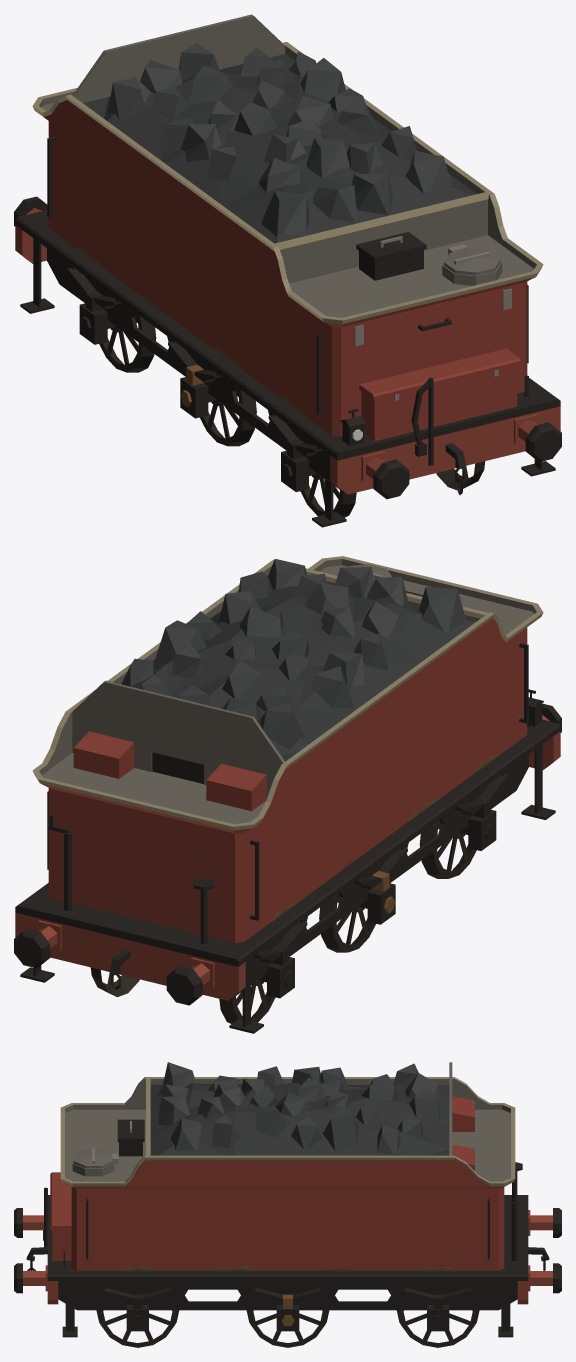
Rendered from coal-tender-0e3647.glb.
3 views of the same model, one above another, from view 1: azimuth 30°, elevation 25°; view 2: azimuth 150°, elevation 25°; view 3: azimuth 270°, elevation 25° (orthographic). The views are drawn at different scales.
Parts seen in each view (by area): view 1: body, coal-lumps, wheel-1-set, wheel-2-set, wheel-3-set, lamp-body; view 2: body, coal-lumps, wheel-3-set, wheel-2-set, wheel-1-set; view 3: body, coal-lumps, wheel-2-set, wheel-1-set, wheel-3-set.
Part boxes in pixels (x1,y1,x2,y2): body: (14,14,561,527); coal-lumps: (108,43,452,236); wheel-1-set: (300,461,485,517); wheel-2-set: (200,387,256,446); wheel-3-set: (99,314,156,372); lamp-body: (340,408,365,445); body: (14,556,561,1033); coal-lumps: (121,559,466,749); wheel-3-set: (90,967,275,1023); wheel-2-set: (319,893,375,952); wheel-1-set: (419,820,476,878); body: (14,1062,561,1337); coal-lumps: (158,1062,443,1154); wheel-2-set: (246,1310,329,1347); wheel-1-set: (96,1310,179,1347); wheel-3-set: (396,1310,479,1347).
Size of the model in its own units: 2.68 by 3.5 by 7.3.
